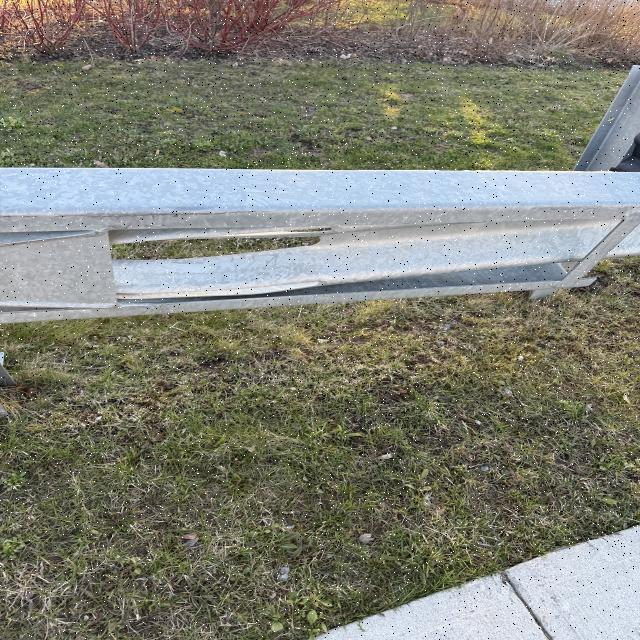Guard rail: (26, 148, 636, 302)
